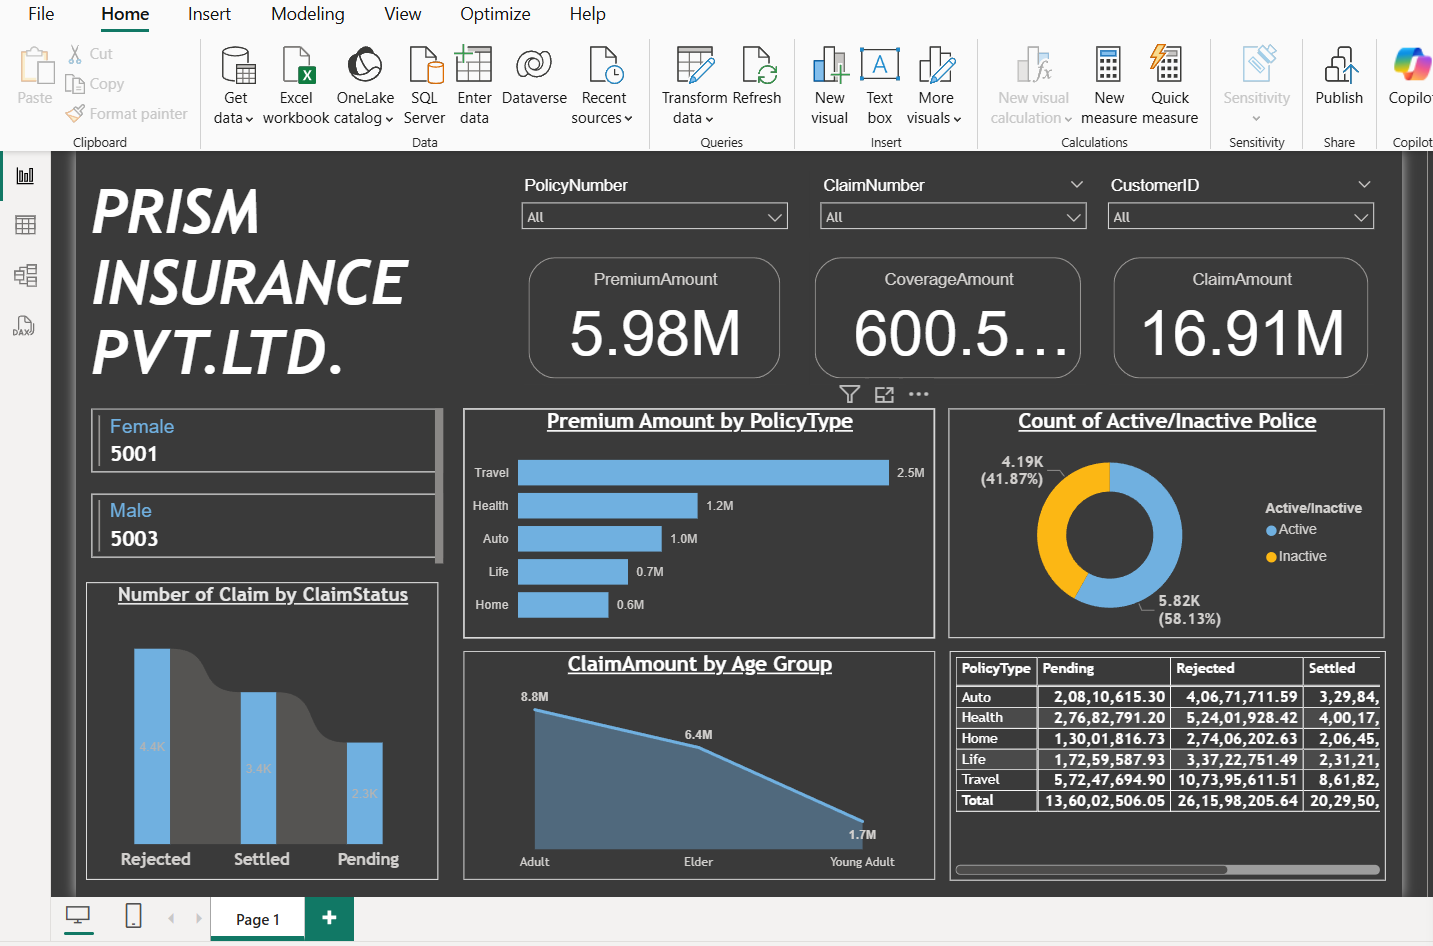

This screenshot's page, from the dashboard's own definition file:
{"tool":"powerbi","page":{"name":"Page 1","canvas":[1280,720],"ordinal":0},"visuals":[{"type":"slicer","fields":{"Values":["InsuranceData.PolicyNumber"]},"box":[419.9,19.2,277.2,90.6],"z":0},{"type":"slicer","fields":{"Values":["InsuranceData.ClaimNumber"]},"box":[708.1,19.2,277.2,90.6],"z":1000},{"type":"slicer","fields":{"Values":["InsuranceData.CustomerID"]},"box":[985.3,19.2,277.2,90.6],"z":2000},{"type":"textbox","box":[9.6,19.2,410.3,262.1],"z":3000},{"type":"cardVisual","fields":{"Data":["Sum(InsuranceData.PremiumAmount)"]},"box":[432.2,97.4,253.9,127.6],"z":4000},{"type":"cardVisual","fields":{"Data":["Sum(InsuranceData.CoverageAmount)"]},"box":[708.1,97.4,267.6,127.6],"z":5000},{"type":"cardVisual","fields":{"Data":["Sum(InsuranceData.ClaimAmount)"]},"box":[996.2,97.4,256.6,127.6],"z":6000},{"type":"multiRowCard","fields":{"Values":["InsuranceData.Gender","CountNonNull(InsuranceData.Gender)"]},"box":[9.6,244.3,349.9,171.5],"z":7000},{"type":"ribbonChart","title":"Number of Claim by ClaimStatus","fields":{"Category":["InsuranceData.ClaimStatus"],"Y":["CountNonNull(InsuranceData.ClaimStatus)"]},"box":[9.7,416.2,340.2,287.1],"z":8000},{"type":"barChart","title":"Premium Amount by PolicyType","fields":{"Category":["InsuranceData.PolicyType"],"Y":["Sum(InsuranceData.PremiumAmount)"]},"box":[374,248.5,454.8,222],"z":9000},{"type":"lineChart","title":"ClaimAmount by Age Group","fields":{"Category":["InsuranceData.Age Group"],"Y":["Sum(InsuranceData.ClaimAmount)"]},"box":[374,482.6,454.8,220.8],"z":10000},{"type":"donutChart","title":"Count of Active/Inactive Police","fields":{"Category":["InsuranceData.Active/Inactive"],"Y":["CountNonNull(InsuranceData.Active/Inactive)"]},"box":[842.1,248.5,421,222],"z":11000},{"type":"pivotTable","fields":{"Values":["Sum(InsuranceData.CoverageAmount)"],"Rows":["InsuranceData.PolicyType"],"Columns":["InsuranceData.ClaimStatus"]},"box":[843.3,482.6,421,222],"z":12000}]}

Visuals, with their boxes on the page's 1280x720 design canvas (x1, y1, x2, y2). These are canvas units, not pixel positions in the 1433x946 screenshot, which may show the page scaled, cropped or inside an application window:
slicer - InsuranceData.PolicyNumber: region(420, 19, 697, 110)
slicer - InsuranceData.ClaimNumber: region(708, 19, 985, 110)
slicer - InsuranceData.CustomerID: region(985, 19, 1262, 110)
textbox: region(10, 19, 420, 281)
cardVisual - Sum(InsuranceData.PremiumAmount): region(432, 97, 686, 225)
cardVisual - Sum(InsuranceData.CoverageAmount): region(708, 97, 976, 225)
cardVisual - Sum(InsuranceData.ClaimAmount): region(996, 97, 1253, 225)
multiRowCard - InsuranceData.Gender x CountNonNull(InsuranceData.Gender): region(10, 244, 360, 416)
"Number of Claim by ClaimStatus" ribbonChart: region(10, 416, 350, 703)
"Premium Amount by PolicyType" barChart: region(374, 248, 829, 470)
"ClaimAmount by Age Group" lineChart: region(374, 483, 829, 703)
"Count of Active/Inactive Police" donutChart: region(842, 248, 1263, 470)
pivotTable - Sum(InsuranceData.CoverageAmount) x InsuranceData.PolicyType: region(843, 483, 1264, 705)
